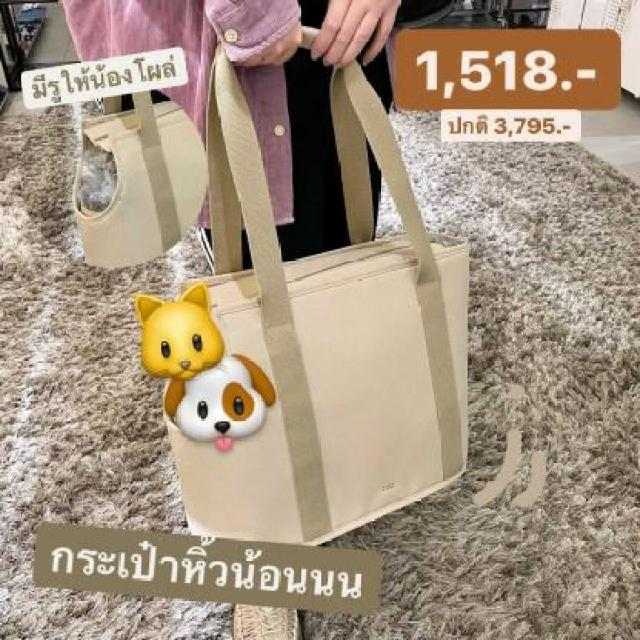Bag: (152, 30, 500, 552)
